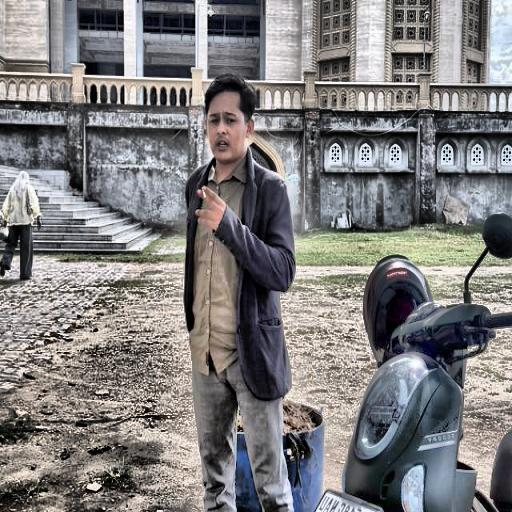Merokok: (202, 189, 206, 197)
Rokok: (206, 92, 254, 181), (196, 186, 227, 230)
